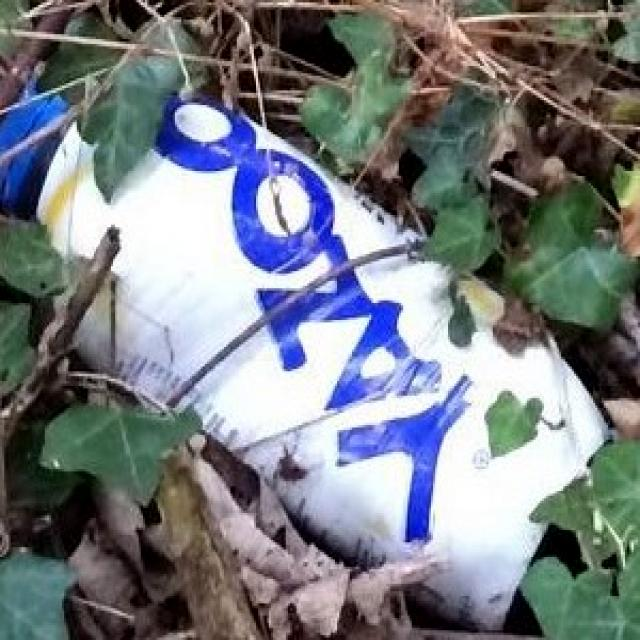Metal: (7, 46, 625, 640)
